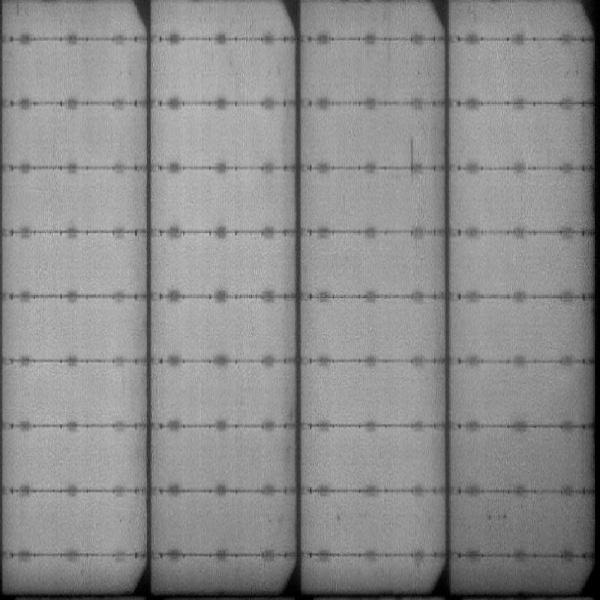scratch: (407, 136, 418, 178)
